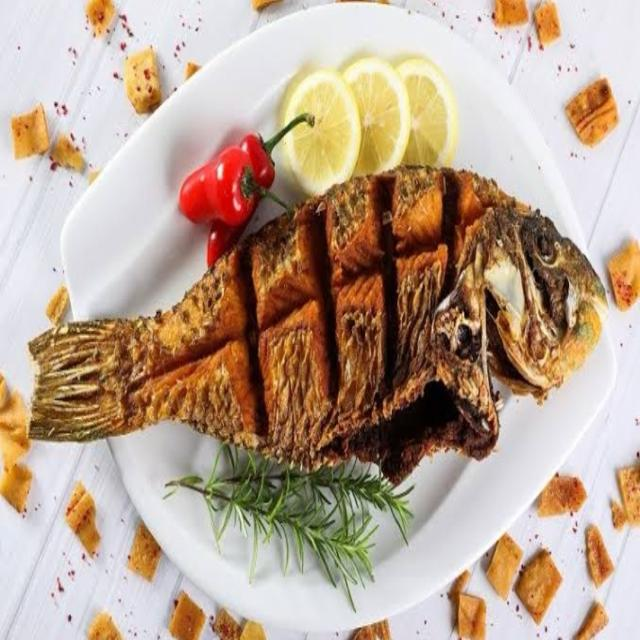Peixe: (26, 162, 609, 486)
